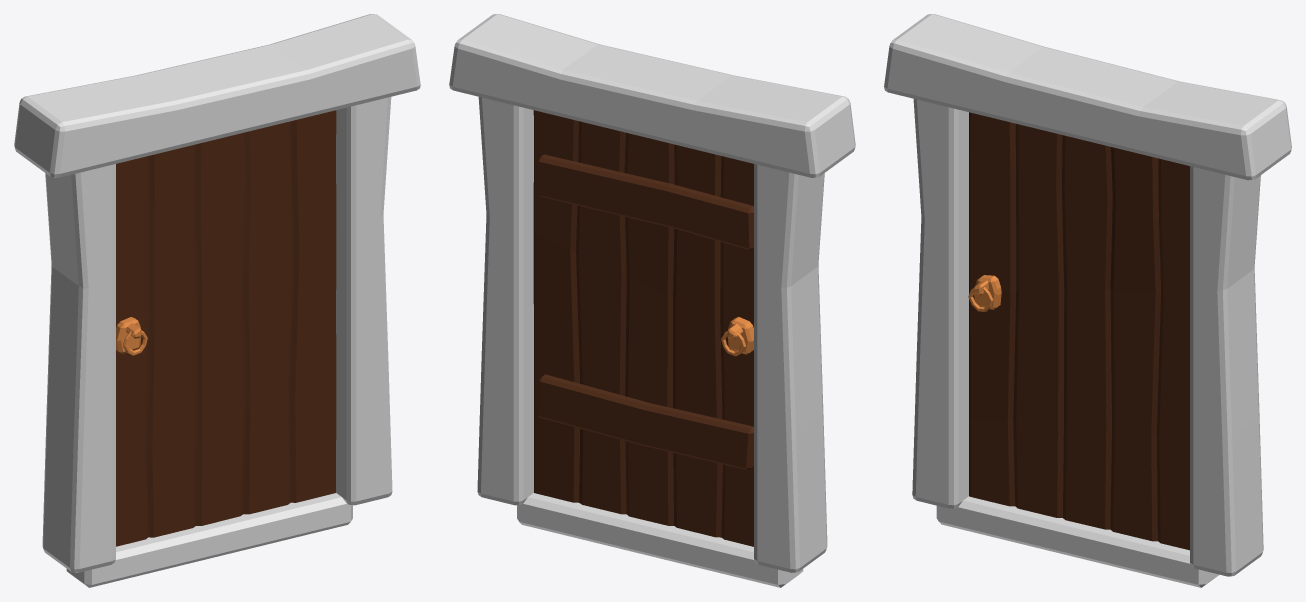
The model's file is OldDoor.fbx.
The picture shows the model from 3 angles, left to right: view 1: azimuth 30°, elevation 25°; view 2: azimuth 150°, elevation 25°; view 3: azimuth 330°, elevation 25°; orthographic projection.
Visible parts, largest first — view 1: Door.001, FrameOldDoor, Doorstep.001; view 2: Door.001, FrameOldDoor, Doorstep.001; view 3: Door.001, FrameOldDoor, Doorstep.001.
Part boxes in pixels (bbox=[...]): Door.001: bbox=[116, 110, 336, 546]; FrameOldDoor: bbox=[14, 14, 420, 572]; Doorstep.001: bbox=[66, 493, 352, 587]; Door.001: bbox=[533, 110, 753, 546]; FrameOldDoor: bbox=[449, 14, 855, 572]; Doorstep.001: bbox=[517, 493, 803, 587]; Door.001: bbox=[968, 112, 1189, 550]; FrameOldDoor: bbox=[884, 14, 1291, 576]; Doorstep.001: bbox=[936, 496, 1218, 587].
Bounding box in the file's own units: 195 × 242 × 38.53.
